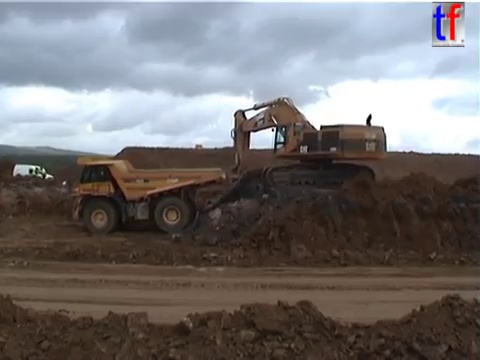excavator: (225, 94, 389, 200)
truck: (59, 153, 223, 235)
worker: (38, 165, 48, 184), (32, 164, 40, 183)
